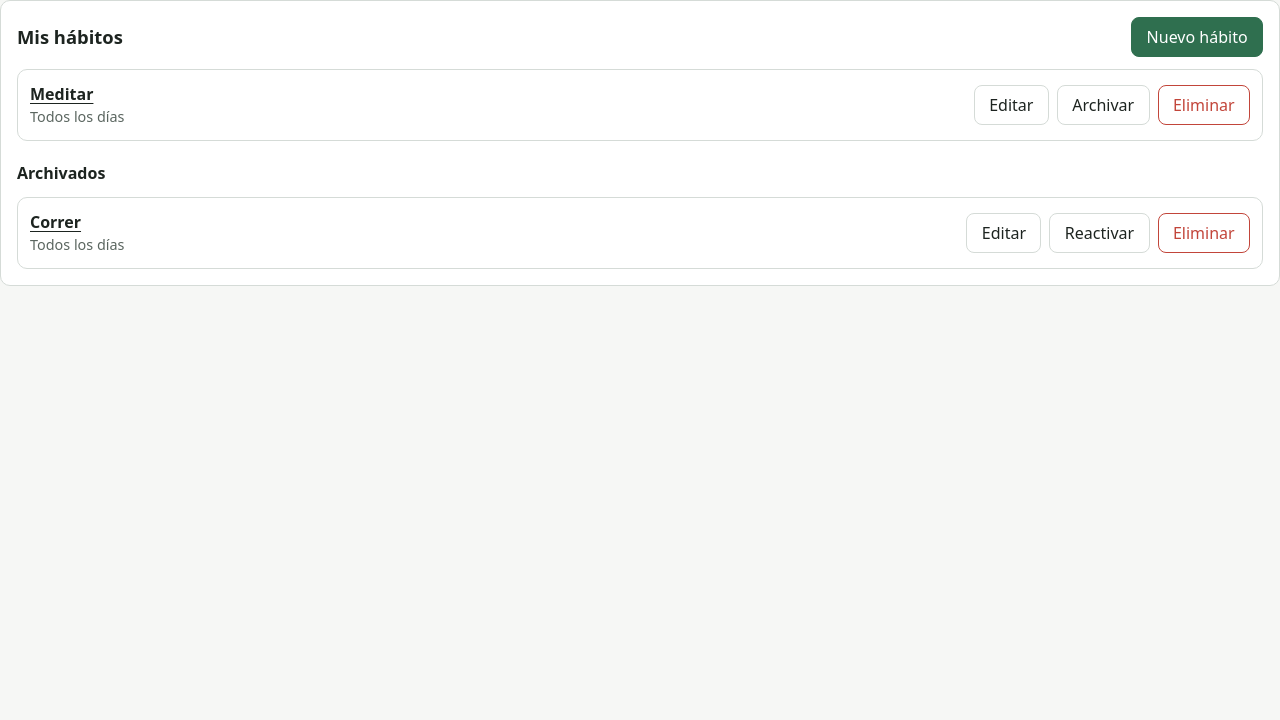
Test: HabitList (FR1.4, FR1.5) › cancelar la confirmación no borra nada
This screenshot has width=1280, height=720.
Click the 1st button "Eliminar": x=1204, y=105 [1158,85,1250,125]
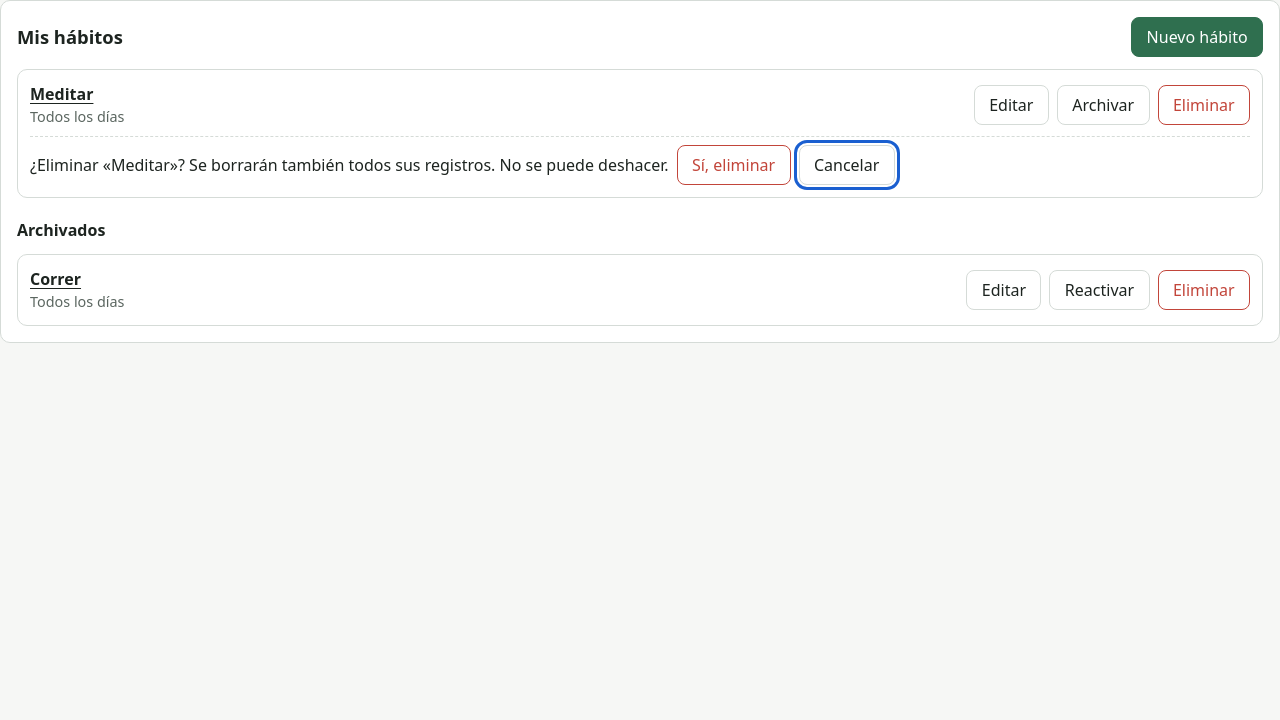
Click the button with test id "cancel-delete": x=847, y=165 [798,145,895,185]
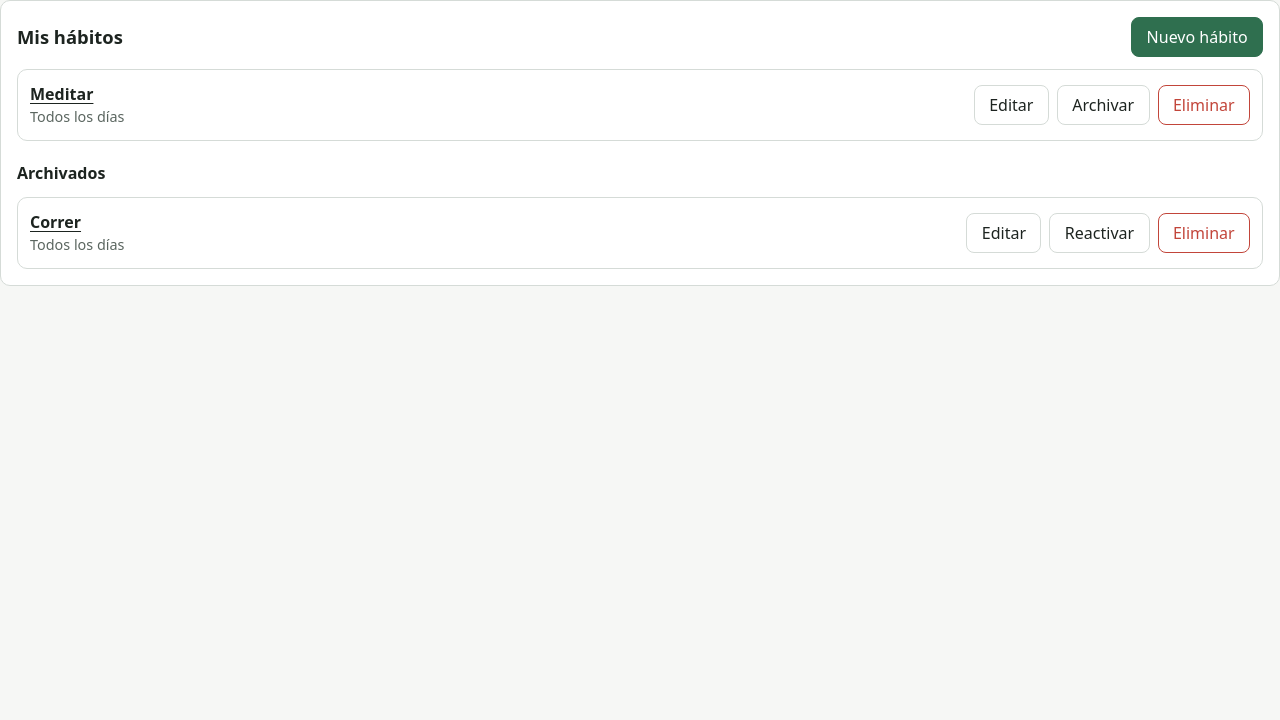
expect the dialog with test id "delete-confirmation" is gone: met
